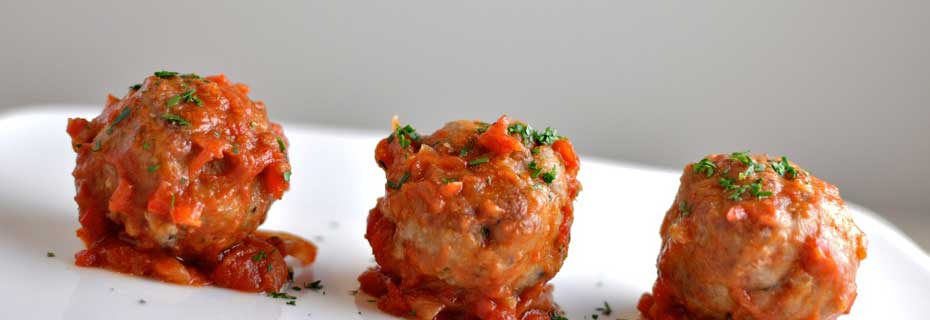meatballs: (71, 76, 291, 263), (373, 127, 587, 292), (677, 161, 858, 320)
